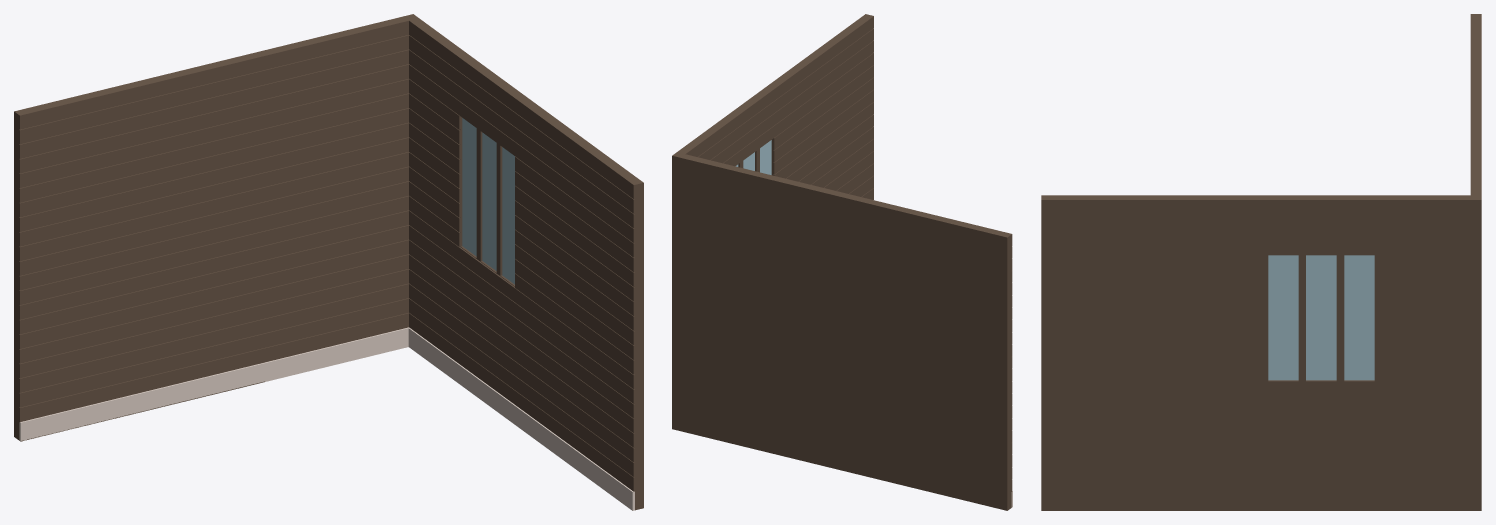
The model's file is Wall_5.fbx.
The picture shows the model from 3 angles, left to right: view 1: azimuth 30°, elevation 25°; view 2: azimuth 150°, elevation 25°; view 3: azimuth 270°, elevation 25°; orthographic projection. The views are drawn at different scales.
Visible parts, largest first — view 1: Wall_5; view 2: Wall_5; view 3: Wall_5.
Boxes of the visible parts, bbox=[...] form: Wall_5: bbox=[14, 14, 643, 510]; Wall_5: bbox=[672, 14, 1012, 510]; Wall_5: bbox=[1041, 14, 1481, 510].
Size of the model in its own units: 500 by 500 by 390.
